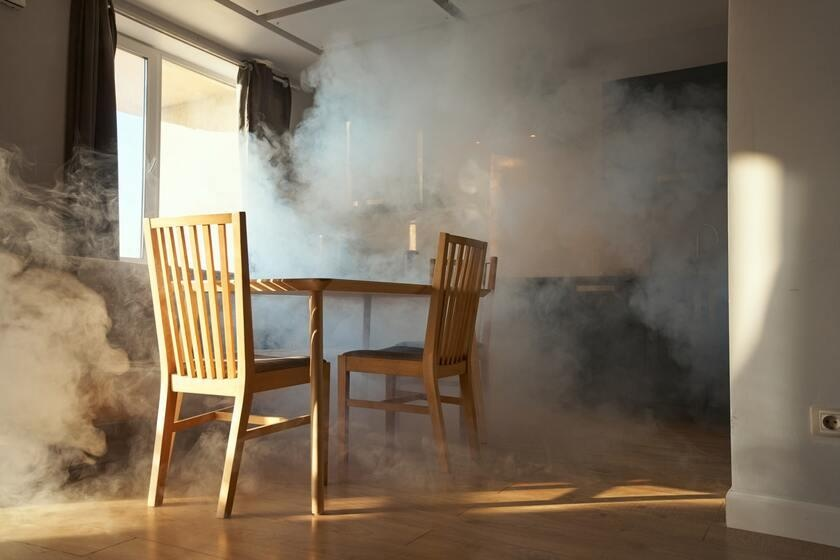smoke: (311, 20, 722, 222), (0, 183, 142, 486), (224, 146, 424, 357)
